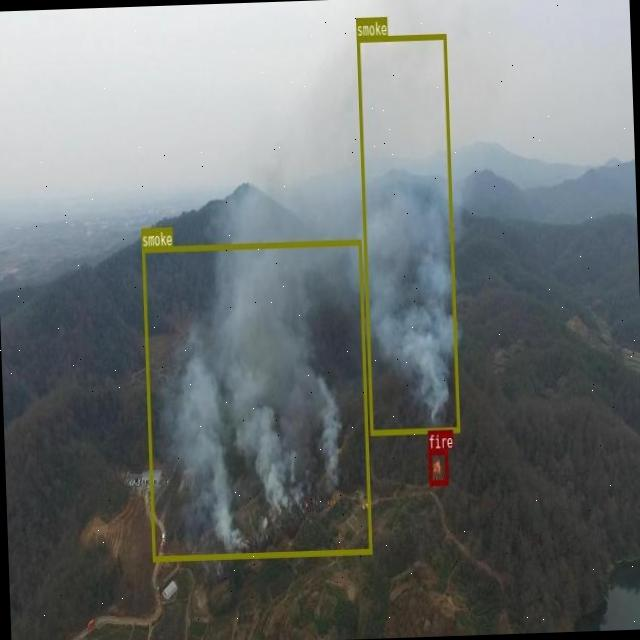fire: (428, 448, 447, 484)
smoke: (141, 239, 371, 561), (355, 32, 459, 434)
